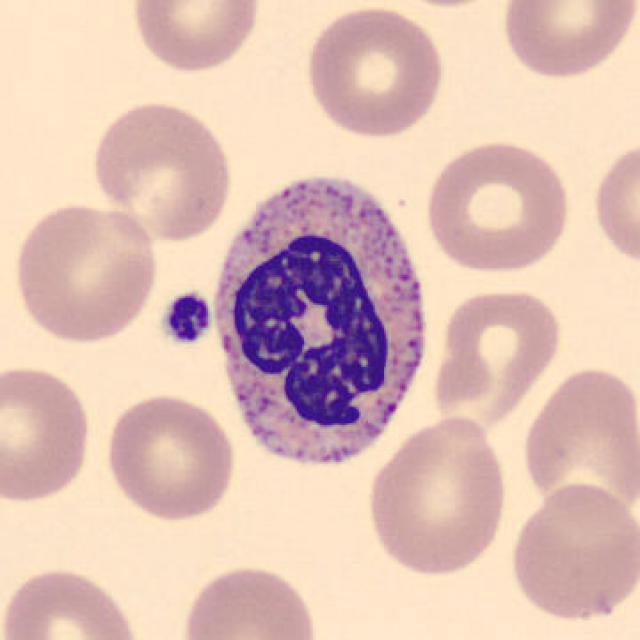Neutrophil: (204, 159, 441, 483)
Platelets: (158, 289, 215, 347)
RBC: (364, 413, 512, 578), (9, 199, 162, 346), (87, 97, 237, 243), (422, 136, 574, 275), (428, 284, 566, 435), (302, 2, 448, 141), (505, 479, 638, 626), (518, 361, 638, 522), (100, 389, 240, 524), (0, 360, 96, 506), (177, 560, 323, 640), (498, 0, 638, 83), (0, 564, 146, 640), (126, 0, 265, 76), (588, 134, 638, 273)
